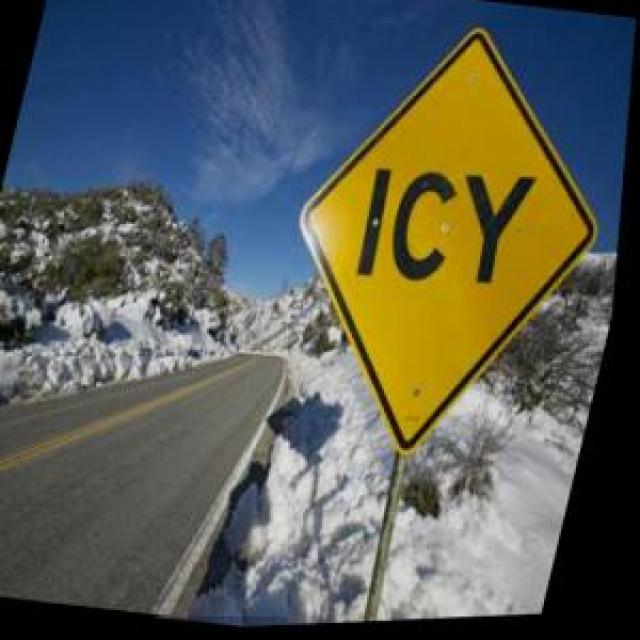clear-road: (0, 359, 288, 617)
